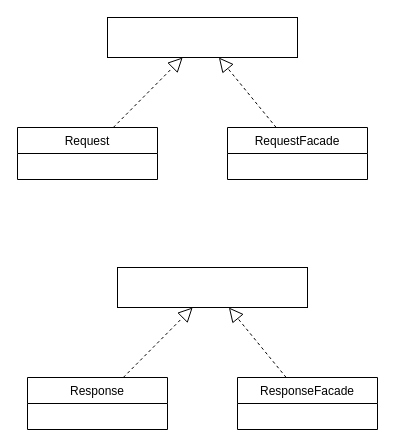
Image size: 395x447. Some labels were removed from this diagram. The centre of each missing label's shape, as x and y in pixels:
<<Interface>> javax.servlet.ServletRequest: point 202,37
<<Interface>> javax.servlet.ServletResponse: point 212,287
